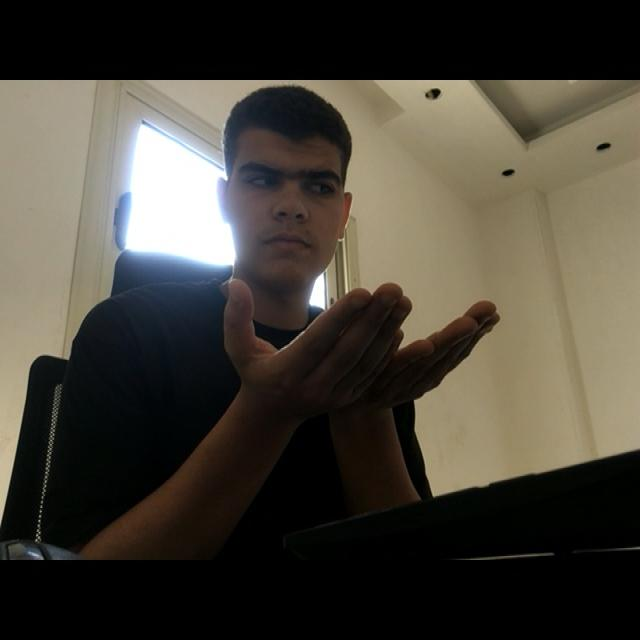Thanks: (195, 265, 539, 455)
